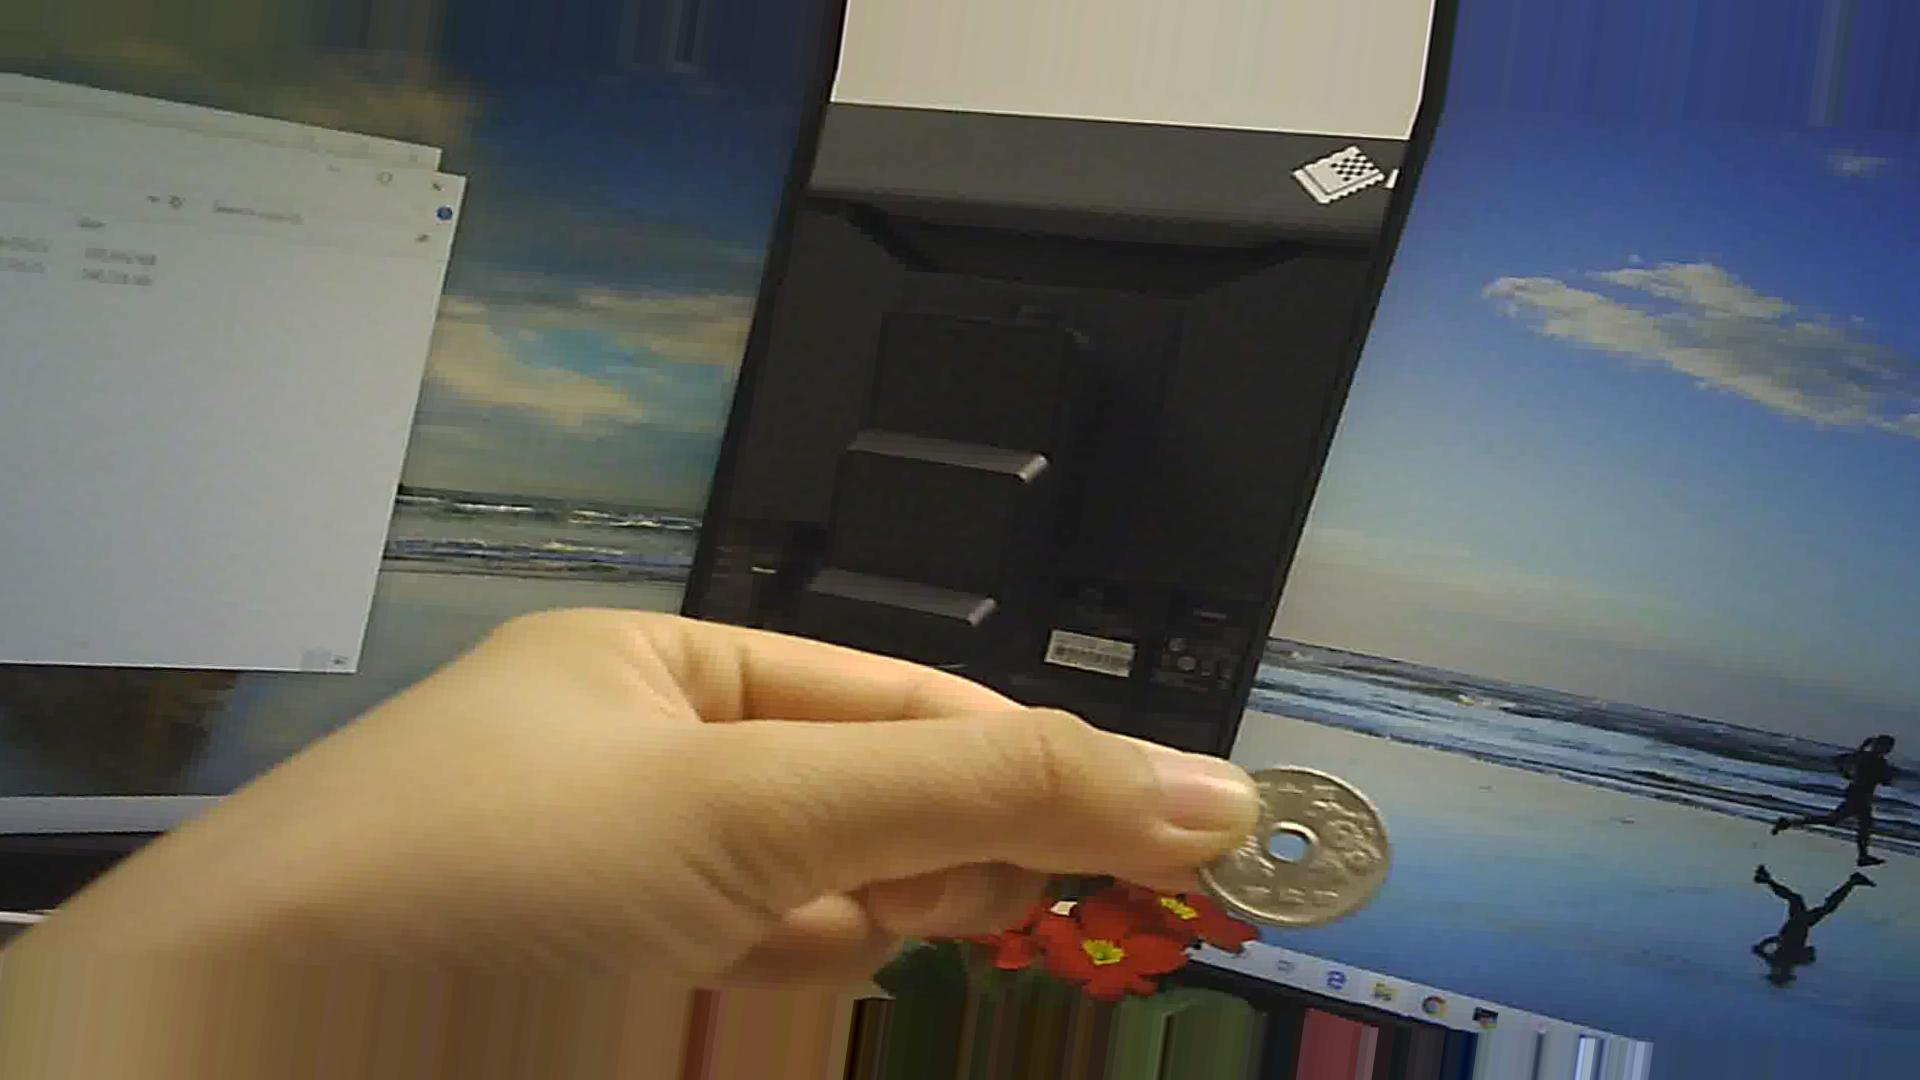50 Yen: (1171, 752, 1394, 926)
